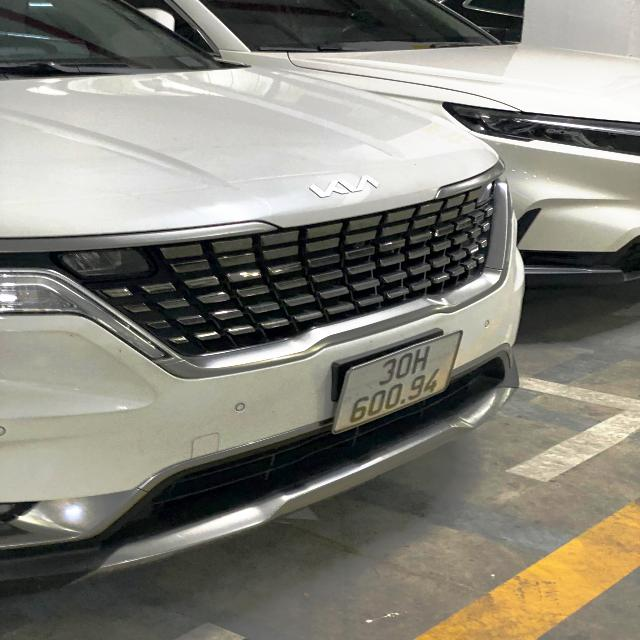license_plate: (331, 328, 471, 442)
